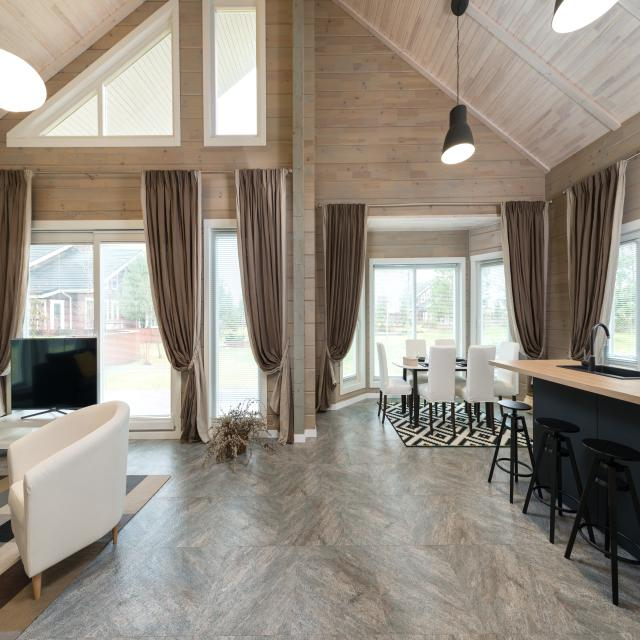floor: (0, 398, 640, 640), (517, 411, 533, 440), (617, 544, 639, 560), (518, 447, 533, 470), (592, 526, 605, 550), (494, 402, 504, 423), (496, 447, 510, 460), (518, 463, 532, 475), (541, 488, 551, 504), (581, 526, 590, 541), (498, 460, 510, 471), (503, 407, 513, 415), (562, 503, 572, 510), (480, 402, 486, 413), (579, 518, 586, 526), (505, 416, 511, 424), (518, 419, 523, 427), (535, 489, 539, 497), (555, 498, 558, 507), (519, 431, 525, 435), (533, 480, 536, 487), (471, 403, 474, 406)
wall: (314, 0, 546, 390), (543, 111, 640, 360), (179, 0, 303, 172), (365, 231, 470, 388), (44, 0, 170, 104), (0, 110, 181, 172), (200, 173, 236, 372), (30, 174, 144, 231), (303, 0, 315, 435), (286, 169, 304, 435), (367, 201, 502, 217), (622, 154, 640, 225), (469, 222, 503, 256)
